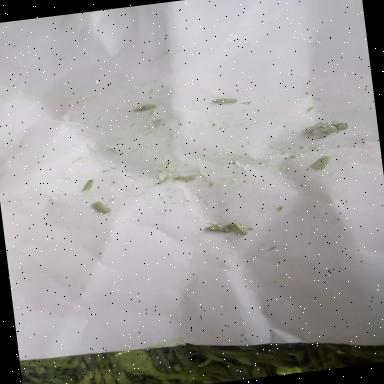pbw: (227, 220, 250, 239), (204, 219, 229, 236), (310, 154, 334, 171), (90, 199, 112, 216), (174, 172, 204, 181), (132, 102, 158, 112), (80, 178, 96, 191), (211, 96, 237, 104)
